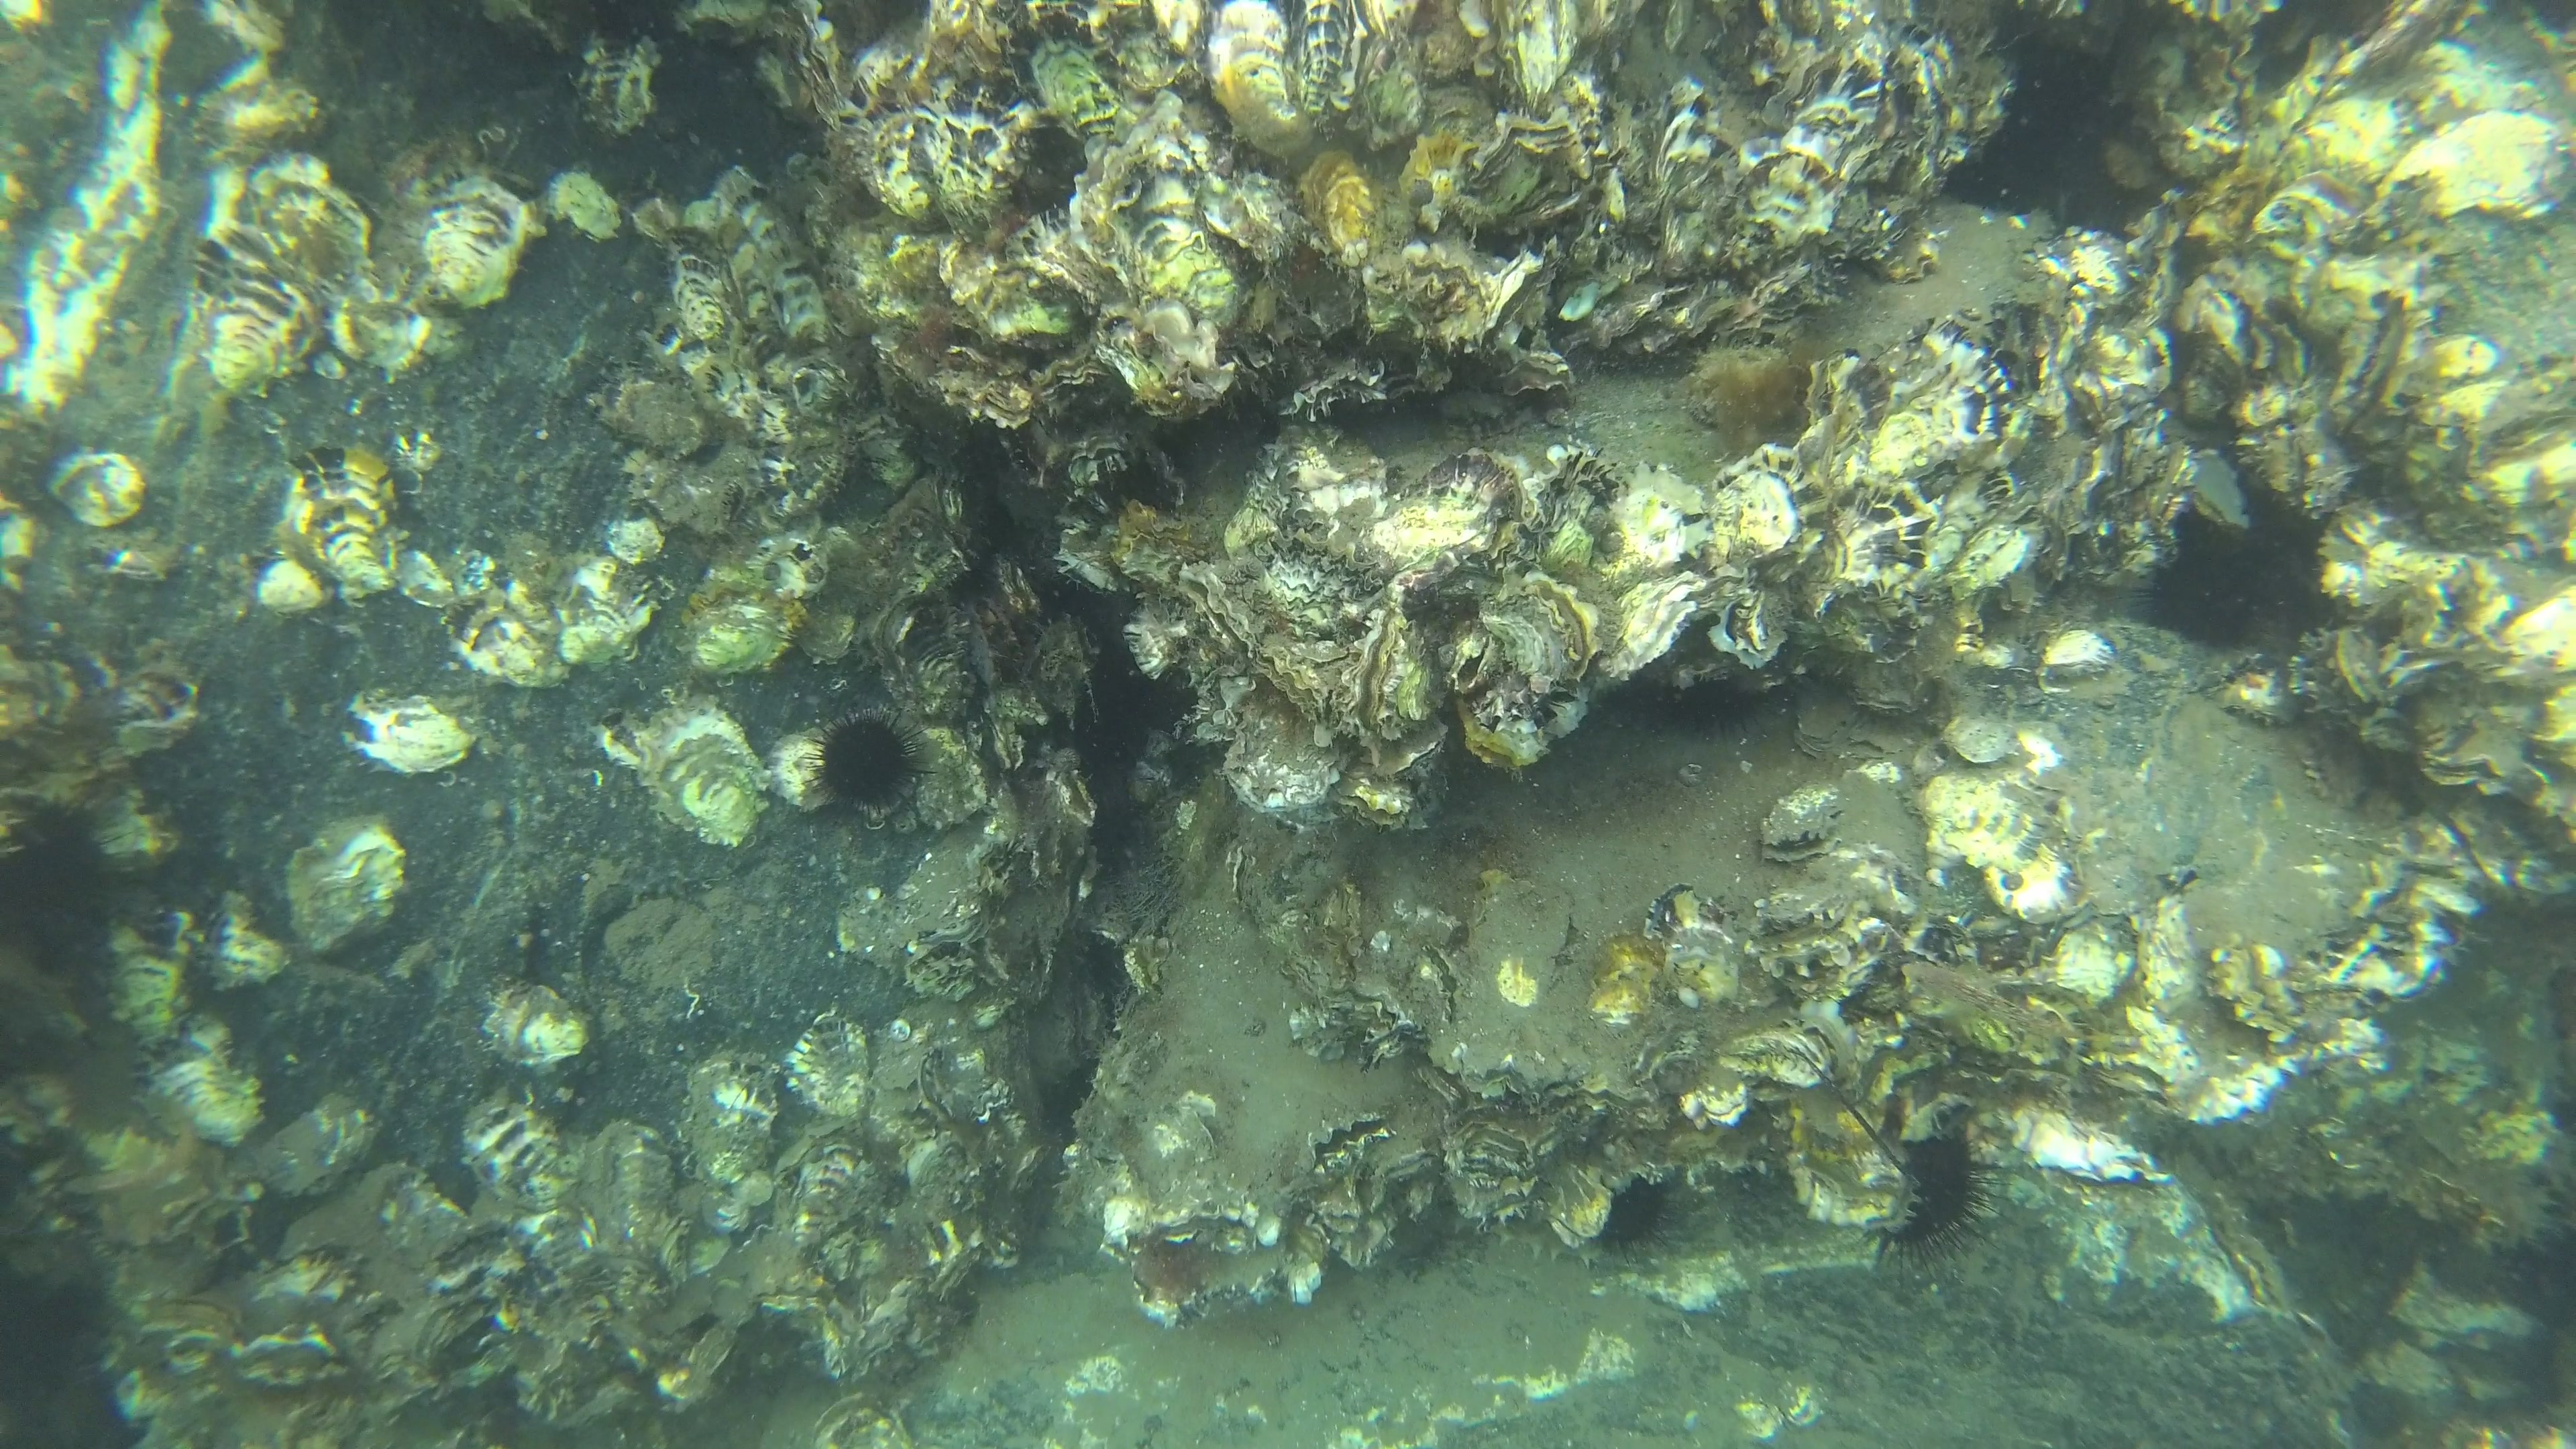echinus: (1858, 1115, 2001, 1277), (809, 699, 941, 823), (1594, 1169, 1668, 1261), (1660, 672, 1755, 738)
